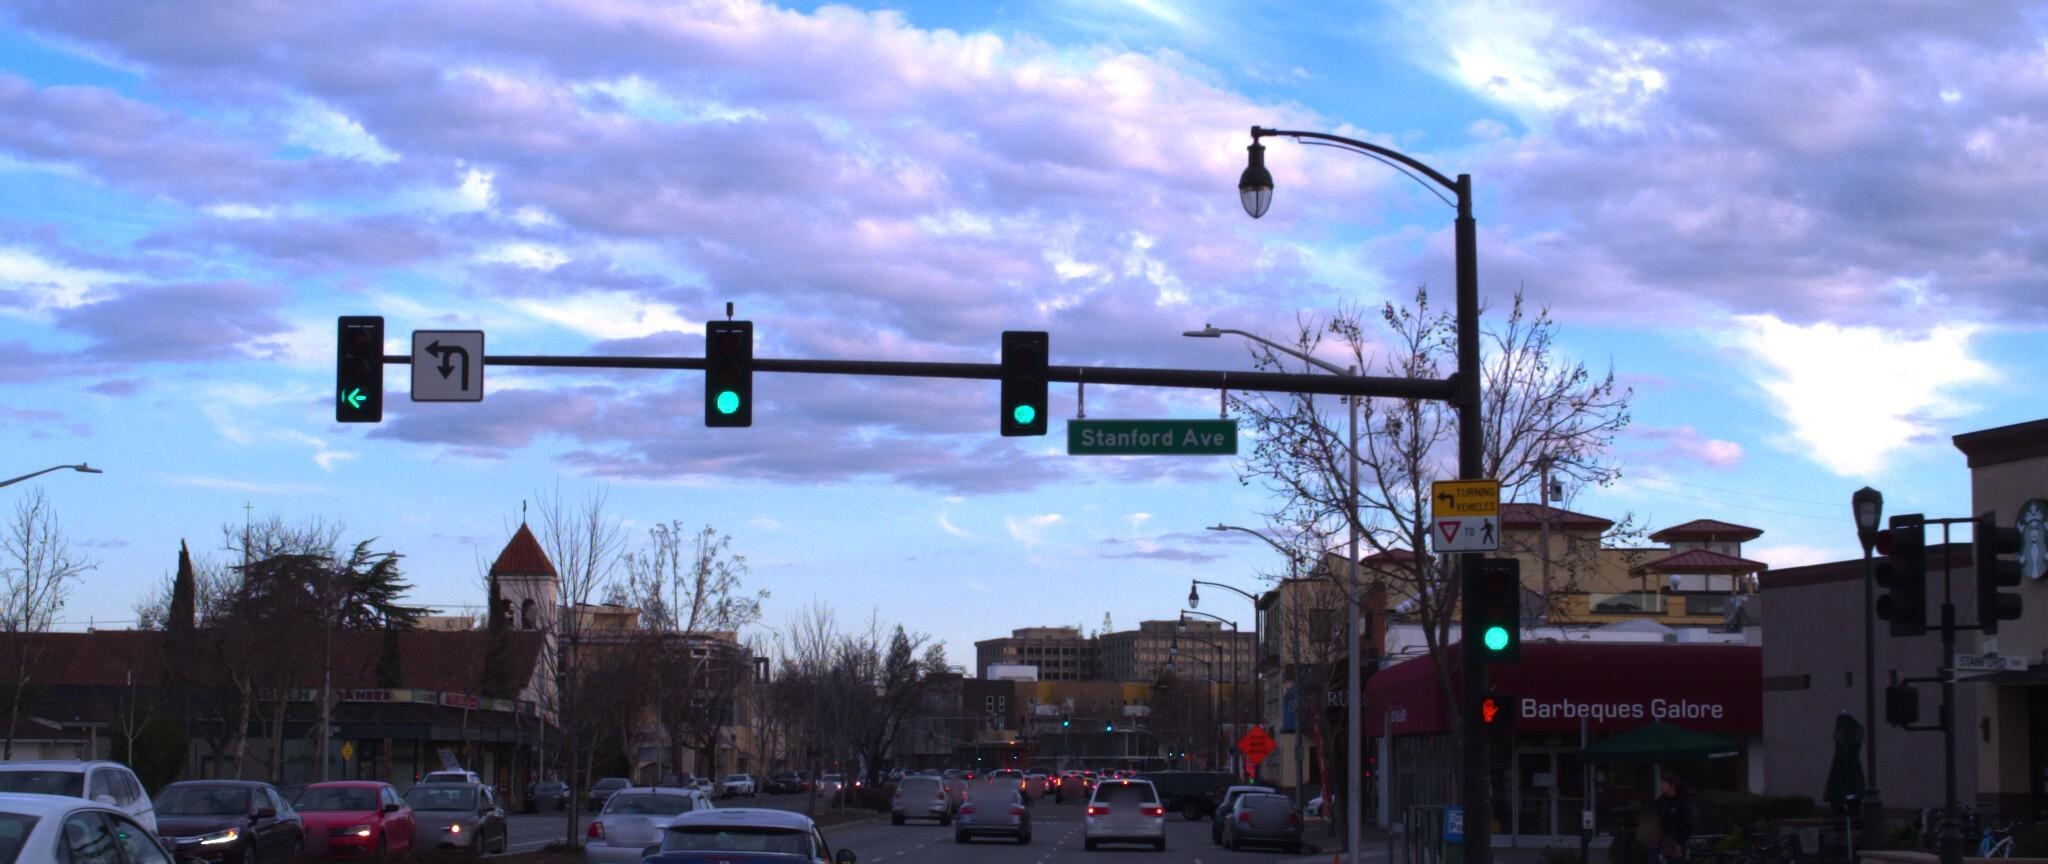bicycle: (1605, 753, 1689, 864), (1694, 807, 1829, 864)
car: (0, 730, 191, 864), (97, 757, 325, 864), (620, 787, 876, 864), (256, 753, 439, 857), (0, 794, 257, 864), (568, 766, 738, 864), (371, 757, 522, 847), (1883, 797, 2048, 864), (1081, 762, 1170, 839), (946, 756, 1038, 827), (1212, 773, 1300, 835)
